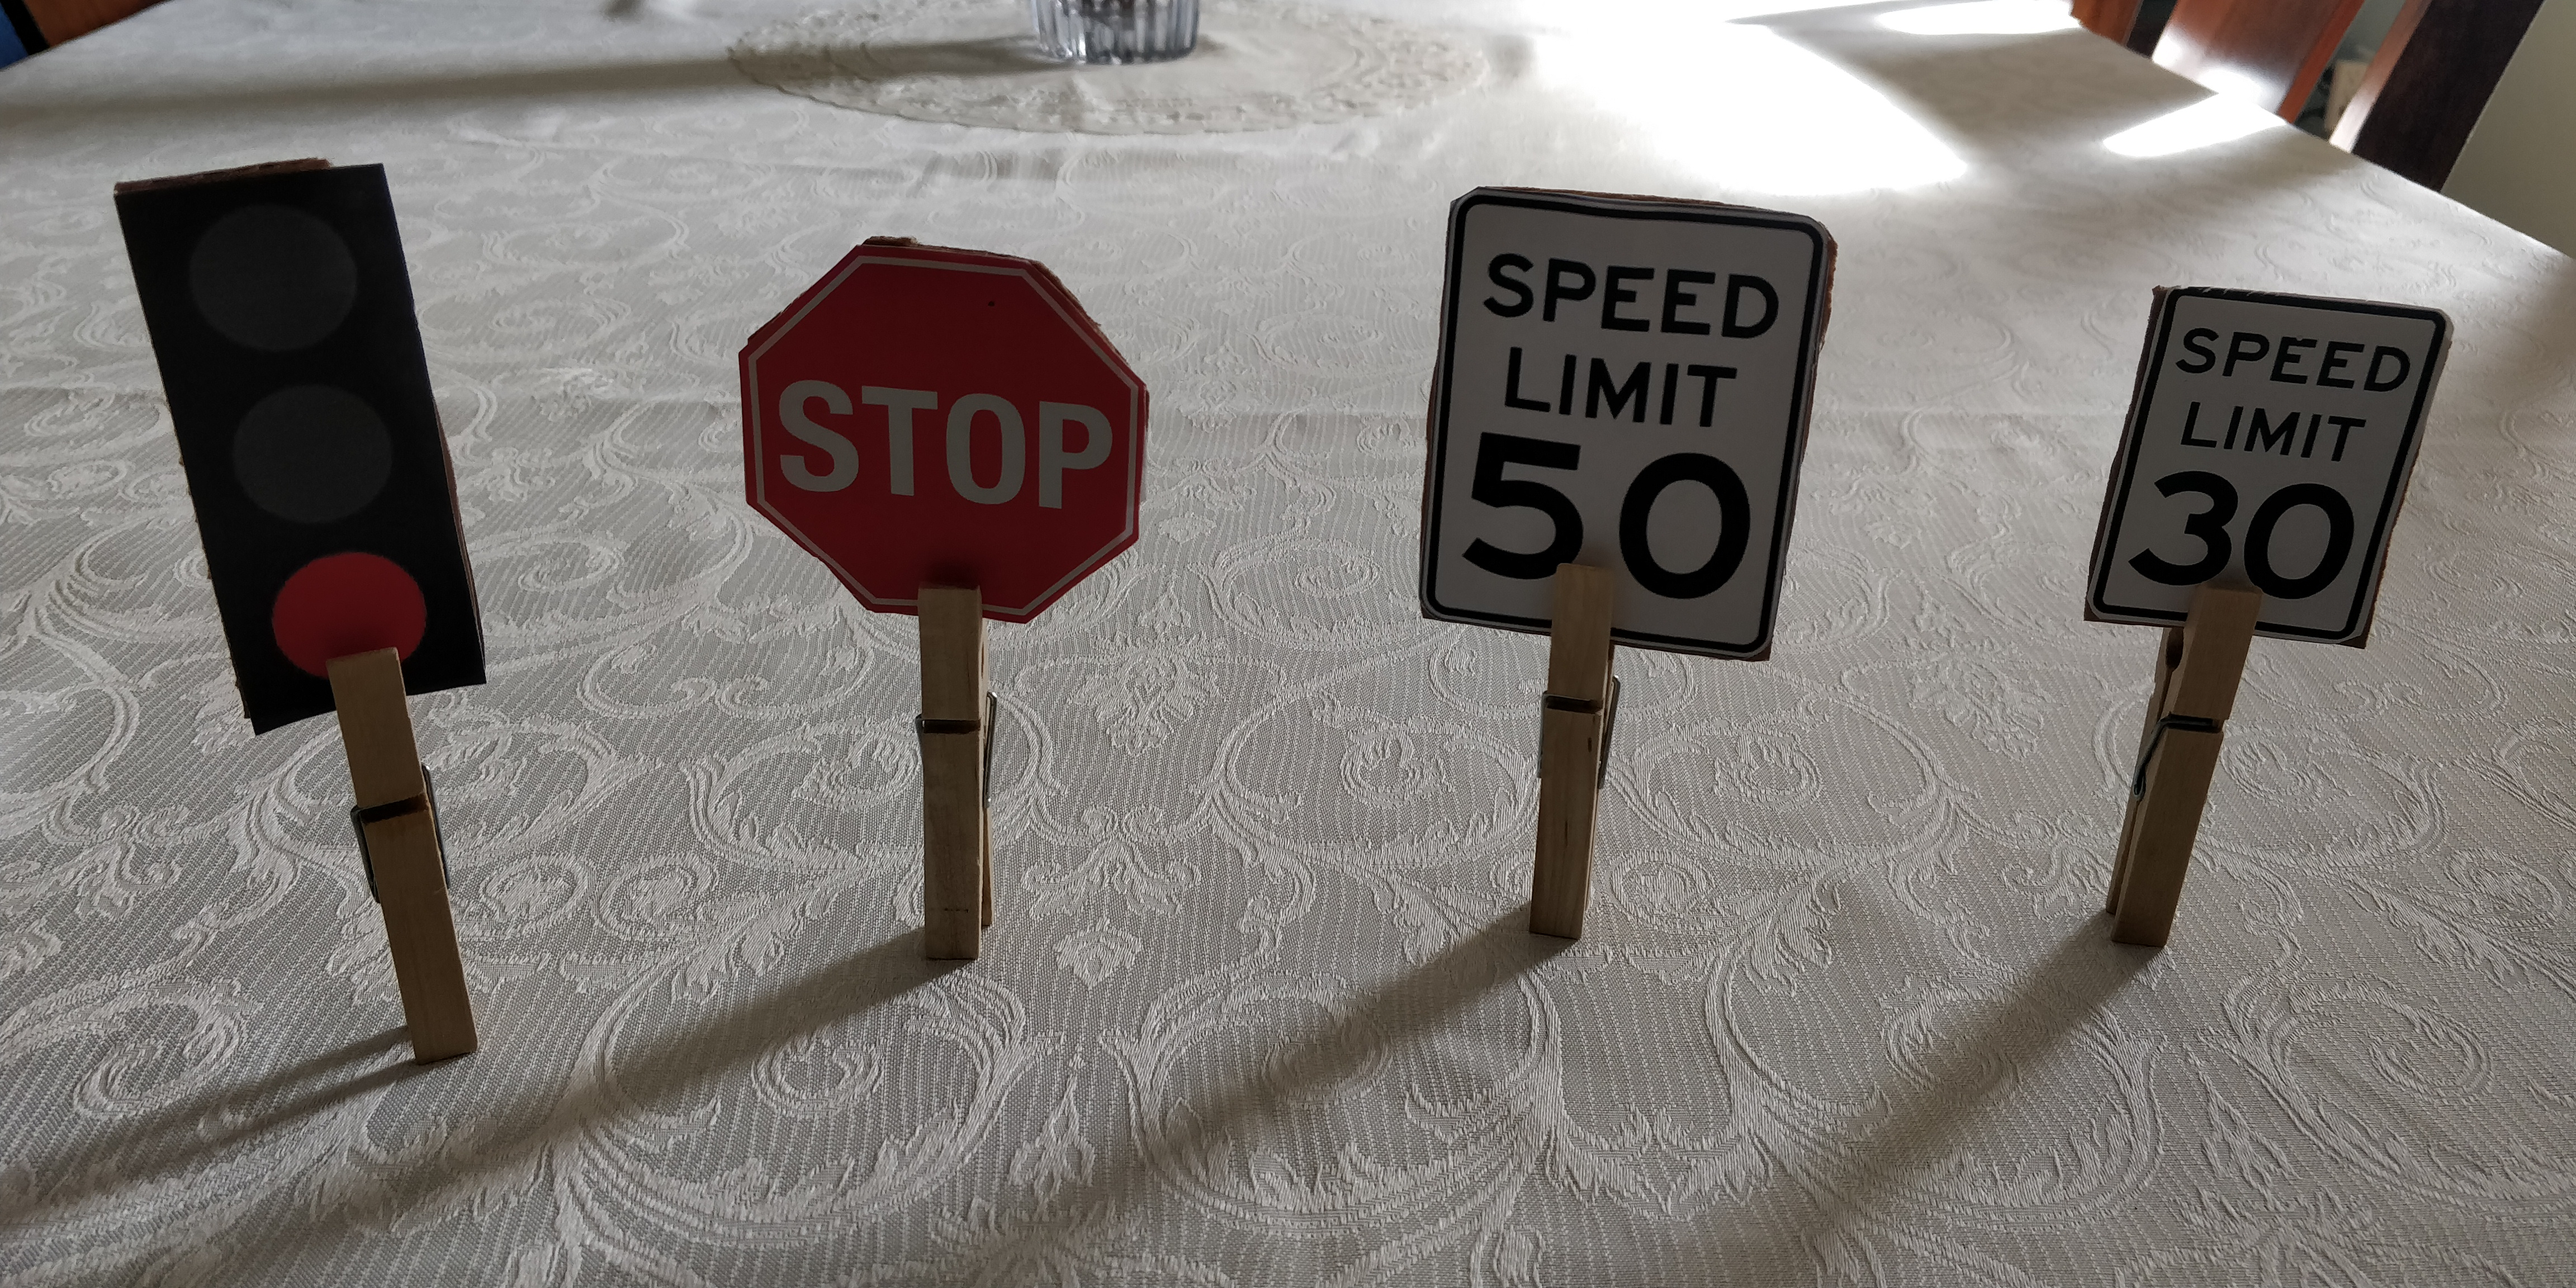Speed Limit 30: (2080, 284, 2446, 649)
Speed Limit 50: (1418, 187, 1837, 659)
Stop Sign: (739, 245, 1147, 619)
red light: (117, 158, 483, 733)
